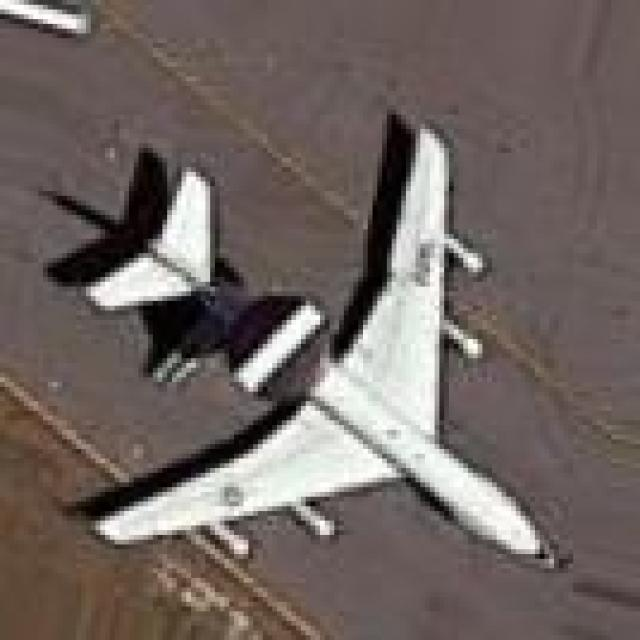E-3_TopDown: (43, 105, 559, 568)
